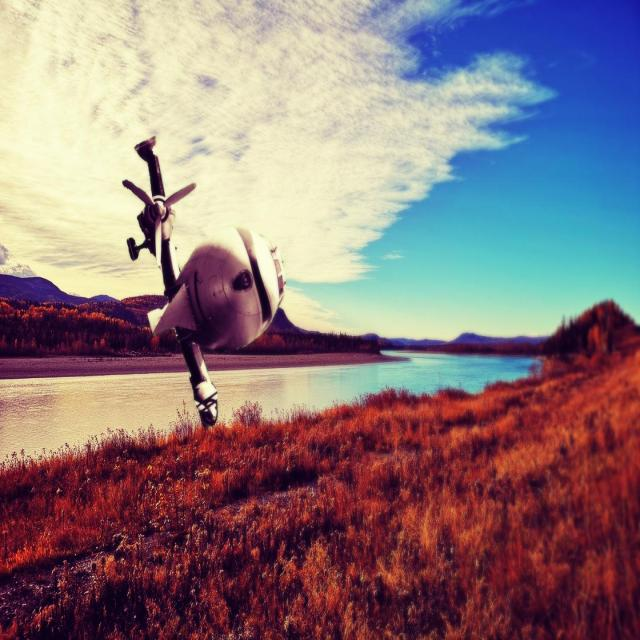airplane: (121, 135, 287, 427)
